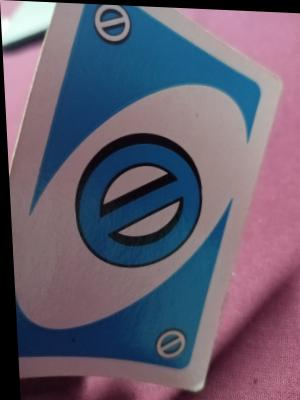blue: (66, 38, 193, 342)
skip: (88, 3, 136, 41), (144, 324, 191, 359)
